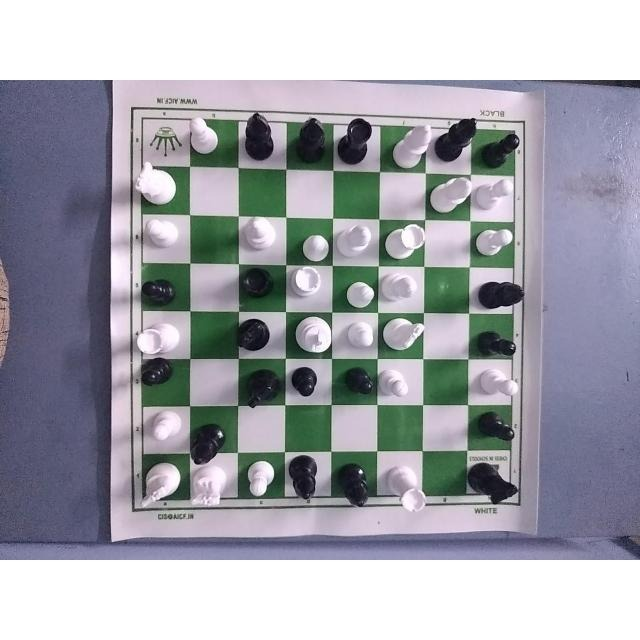black-bishop: (432, 110, 479, 169), (242, 105, 280, 169), (284, 456, 327, 508), (293, 107, 329, 169), (186, 417, 224, 471), (336, 460, 368, 516), (477, 276, 528, 311)
black-knight: (467, 456, 518, 504), (243, 363, 280, 410), (235, 315, 273, 358)
black-pawn: (478, 125, 522, 167), (473, 324, 519, 363), (474, 408, 518, 448), (139, 269, 177, 309), (137, 354, 173, 391), (288, 363, 320, 401), (345, 364, 374, 402)
black-rook: (336, 114, 375, 164), (239, 262, 275, 301)
white-bishop: (387, 116, 432, 172), (425, 174, 477, 221), (380, 268, 424, 309), (334, 217, 371, 262), (242, 214, 279, 256)
white-king: (290, 311, 332, 359)
white-knight: (138, 456, 184, 510), (130, 160, 177, 208), (189, 458, 229, 514), (380, 315, 424, 356)
white-pawn: (475, 367, 521, 403), (184, 113, 224, 152), (149, 406, 185, 447), (472, 224, 516, 257), (245, 458, 275, 505), (376, 362, 410, 401), (294, 231, 334, 264), (341, 317, 376, 354), (143, 215, 181, 248), (476, 174, 514, 207), (345, 272, 377, 311)
white-rook: (383, 460, 430, 512), (379, 220, 423, 266), (130, 320, 177, 360), (288, 263, 324, 307)
